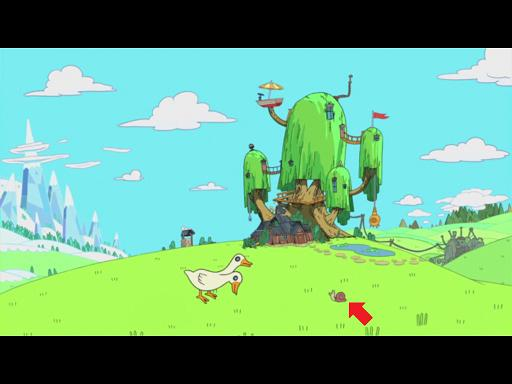snail: (328, 289, 347, 303)
